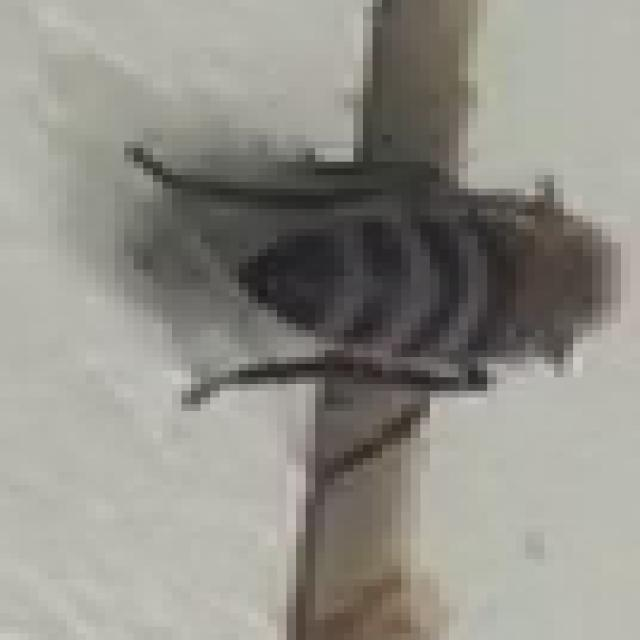honeybee: (132, 140, 606, 391)
